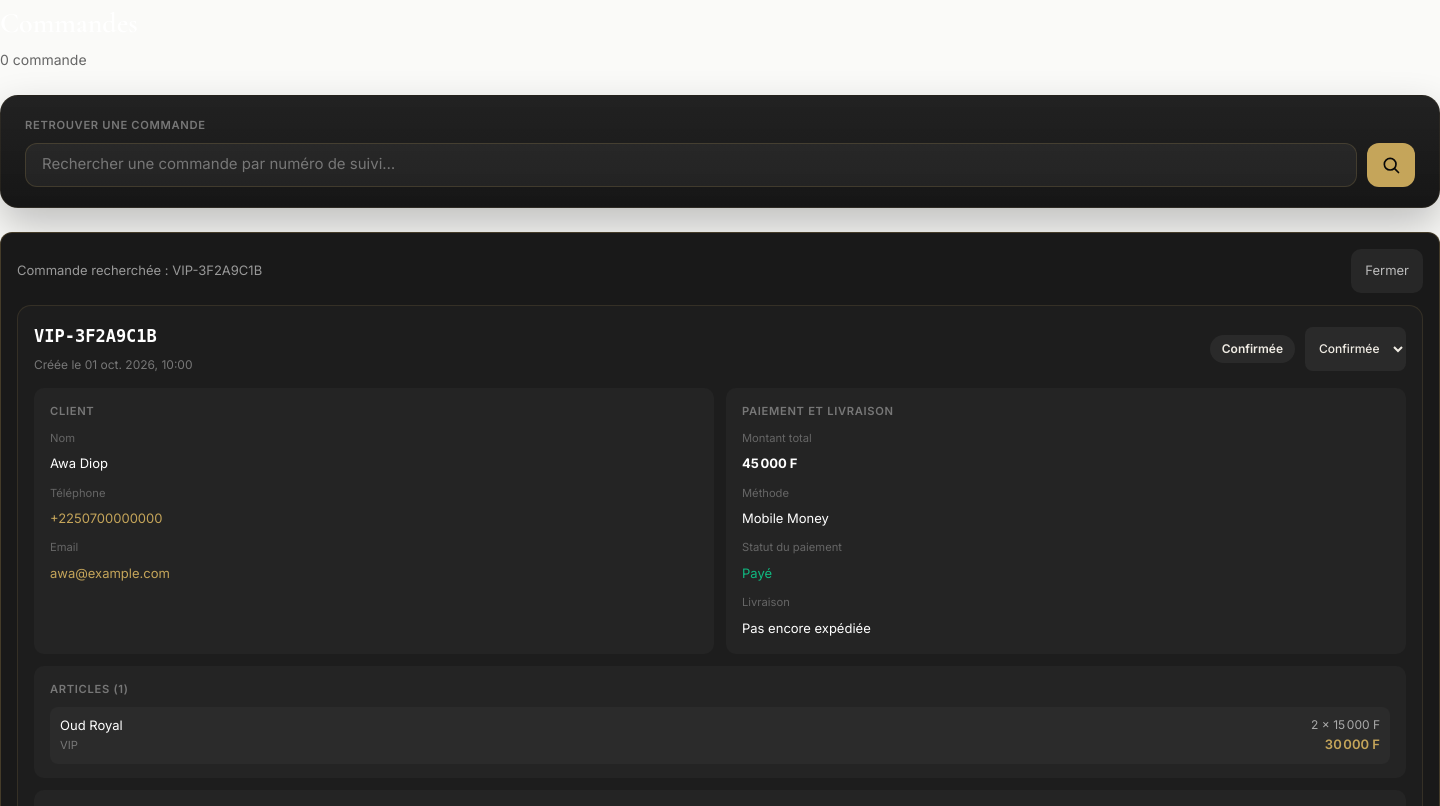
Test: Commandes — commande ouverte depuis la recherche (?ref=) › recharge la fiche après un changement de statut, et se ferme
Expected: the text "Oud Royal" is shown, [60,717,123,733]
Select "Expédiée" in the dropdown named "Statut de la commande VIP-3F2A9C1B" at (1356, 349), box [1305,327,1406,371]
Click the button "Fermer" at (1387, 271), box [1351,249,1423,293]
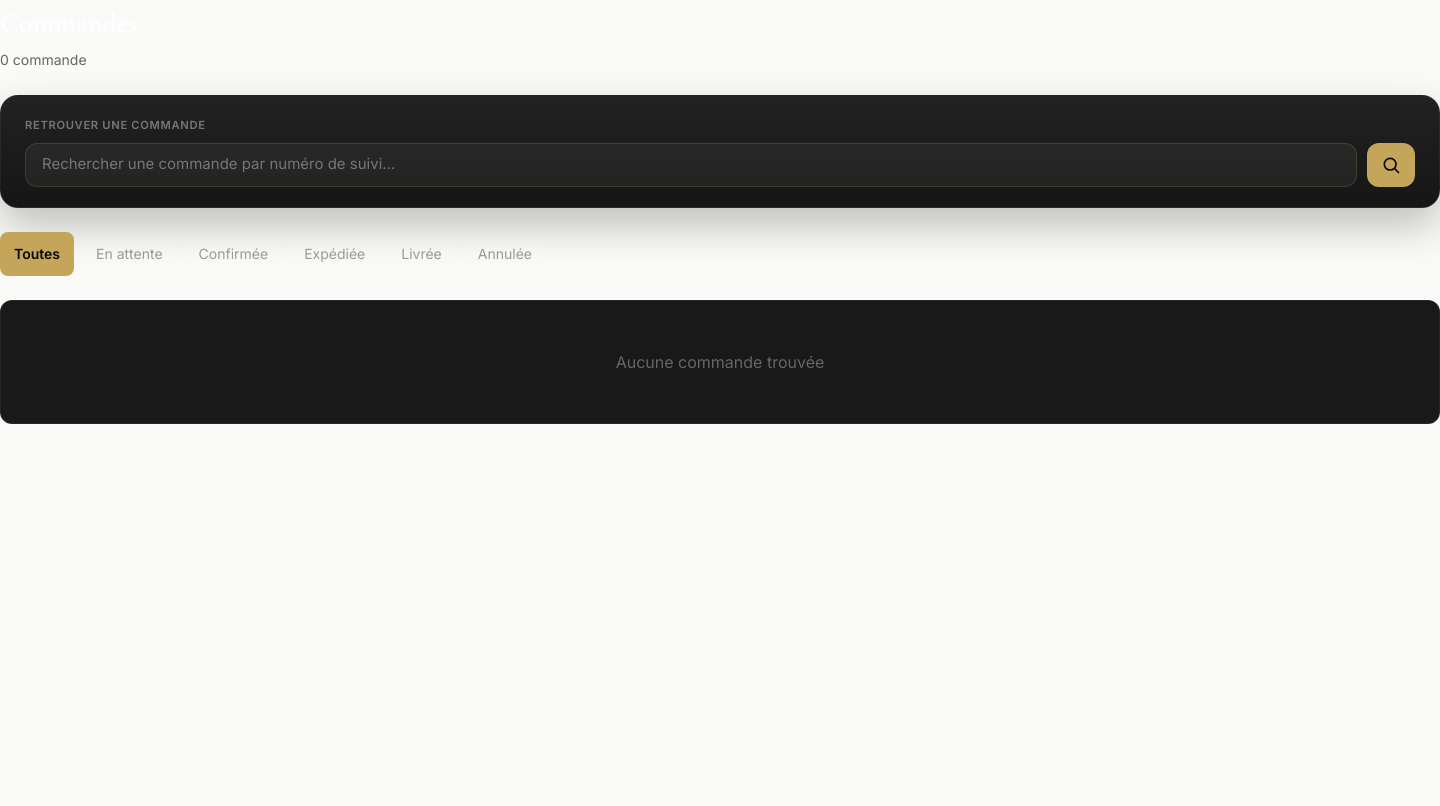
Expected: the text "Oud Royal" is gone
